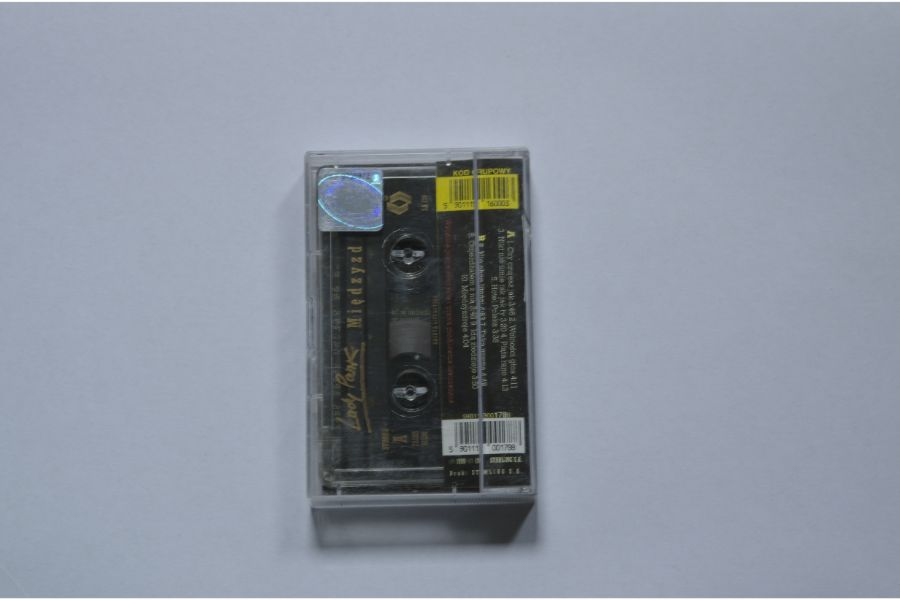album: (301, 147, 539, 511)
